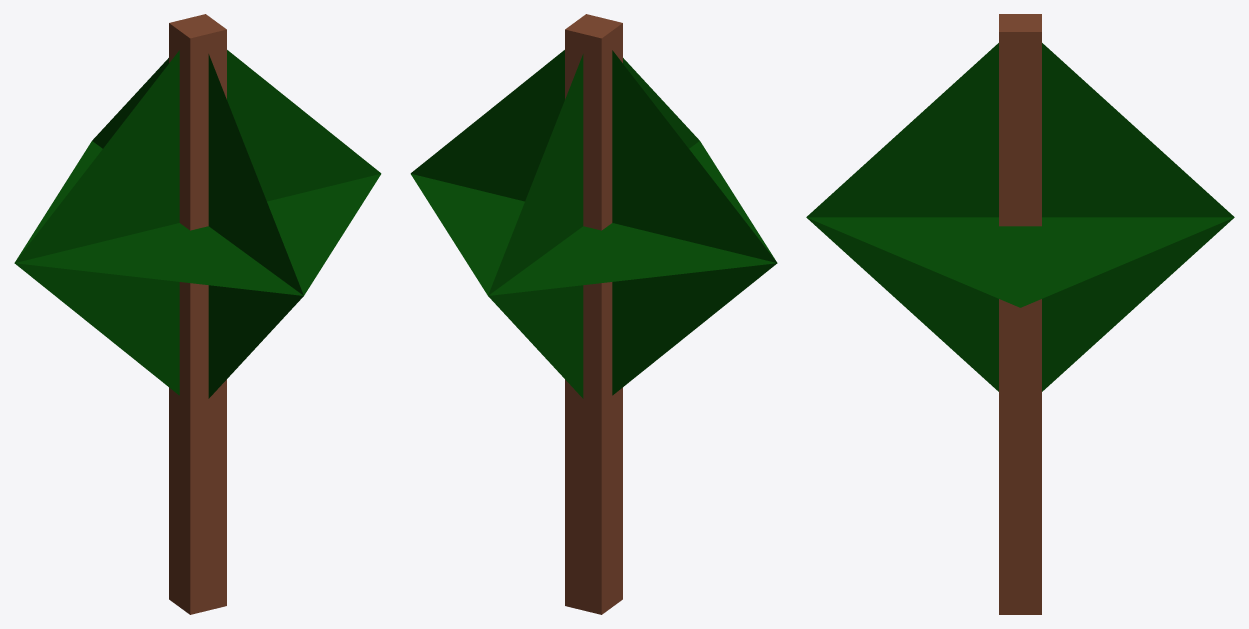
Rendered from tree.obj.
3 views of the same model, side by side, from view 1: azimuth 30°, elevation 25°; view 2: azimuth 150°, elevation 25°; view 3: azimuth 270°, elevation 25° (orthographic).
Parts seen in each view (by area): view 1: vertical leaves, trunk, horizontal leaves; view 2: vertical leaves, trunk, horizontal leaves; view 3: vertical leaves, trunk, horizontal leaves.
Part boxes in pixels (x1,y1,x2,y2): vertical leaves: [14, 50, 380, 398]; trunk: [169, 14, 226, 614]; horizontal leaves: [15, 141, 380, 295]; vertical leaves: [411, 50, 777, 398]; trunk: [565, 14, 622, 614]; horizontal leaves: [411, 141, 776, 295]; vertical leaves: [806, 43, 1234, 391]; trunk: [999, 14, 1041, 614]; horizontal leaves: [806, 217, 1234, 307].
Bounding box in the file's own units: 10 × 15 × 10.
